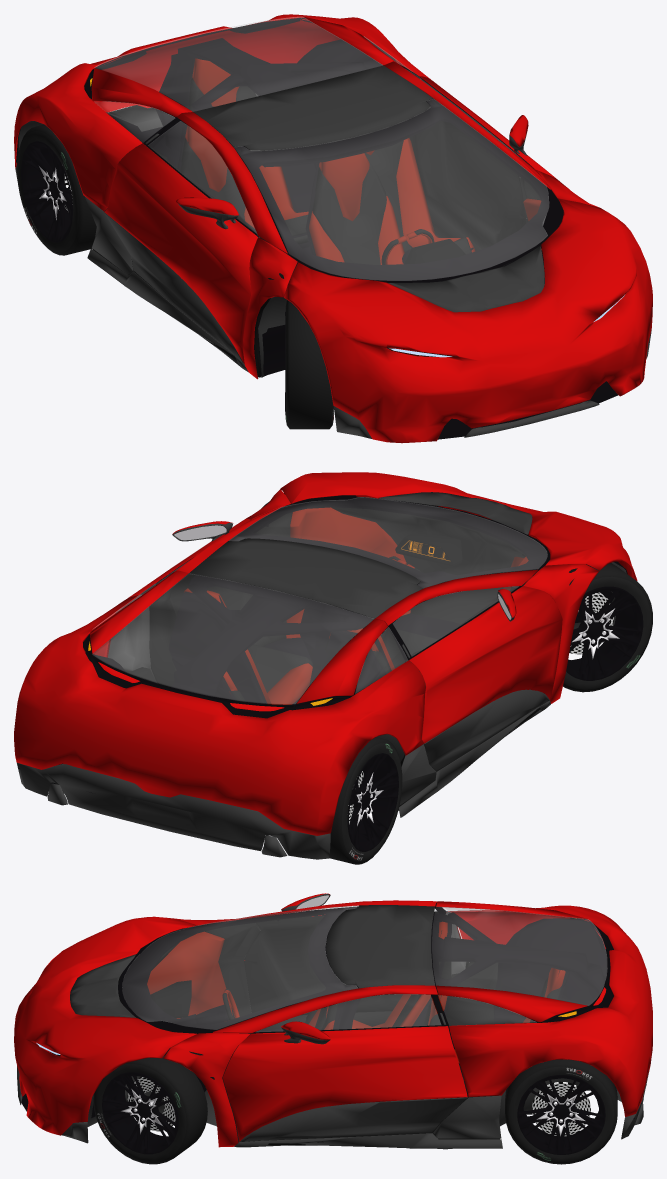
The model's file is concept_lod.glb.
3 renders of one model, top to bottom at view 1: azimuth 30°, elevation 25°; view 2: azimuth 150°, elevation 25°; view 3: azimuth 270°, elevation 25°, orthographic. The views are drawn at different scales.
Visible parts, largest first — view 1: BodyHood, BodyWindshield, BodyRearPanelsColor1, BodyRearwindow, BodyDoorRColor1, BodyWindshieldGasket, BodyRoofPanel, InteriorSeatsColor1, InteriorDoorL01, InteriorSeatsColor2, BodyPillars, InteriorPillar (+15 smaller); view 2: BodyRearPanelsColor1, BodyRearwindow, BodyWindshield, BodyPanelsColor2, BodyDoorRColor1, BodyRoofPanel, InteriorPillar, BodyHood, BodyPillars, InteriorDashMid, BodyWindshieldGasket, InteriorSeatsFrame1 (+17 smaller); view 3: BodyRearPanelsColor1, BodyWindshield, BodyDoorLColor1, BodyHood, BodyRearwindow, BodyRoofPanel, BodyPillars, InteriorDoorR01, BodyWindshieldGasket, BodyDoorLColor2, InteriorFloor, InteriorPillar (+21 smaller).
Part boxes in pixels (bbox=[...]): BodyHood: bbox=[284, 199, 652, 443]; BodyWindshield: bbox=[234, 98, 548, 280]; BodyRearPanelsColor1: bbox=[14, 14, 430, 211]; BodyRearwindow: bbox=[94, 17, 382, 111]; BodyDoorRColor1: bbox=[104, 143, 257, 363]; BodyWindshieldGasket: bbox=[234, 99, 563, 282]; BodyRoofPanel: bbox=[193, 65, 432, 150]; InteriorSeatsColor1: bbox=[185, 58, 475, 264]; InteriorDoorL01: bbox=[409, 78, 527, 248]; InteriorSeatsColor2: bbox=[180, 78, 471, 264]; BodyPillars: bbox=[177, 61, 599, 379]; InteriorPillar: bbox=[155, 38, 434, 169]; BodyRearPanelsColor1: bbox=[14, 570, 425, 835]; BodyRearwindow: bbox=[92, 574, 373, 704]; BodyWindshield: bbox=[229, 497, 547, 588]; BodyPanelsColor2: bbox=[17, 700, 550, 859]; BodyDoorRColor1: bbox=[409, 586, 562, 743]; BodyRoofPanel: bbox=[189, 538, 422, 618]; InteriorPillar: bbox=[171, 575, 417, 702]; BodyHood: bbox=[278, 472, 637, 580]; BodyPillars: bbox=[175, 490, 598, 703]; InteriorDashMid: bbox=[331, 503, 528, 623]; BodyWindshieldGasket: bbox=[230, 496, 550, 588]; InteriorSeatsFrame1: bbox=[169, 592, 383, 707]; BodyRearPanelsColor1: bbox=[436, 901, 652, 1116]; BodyWindshield: bbox=[122, 906, 357, 1029]; BodyDoorLColor1: bbox=[222, 1026, 467, 1141]; BodyHood: bbox=[14, 916, 196, 1135]; BodyRearwindow: bbox=[432, 907, 607, 1005]; BodyRoofPanel: bbox=[326, 905, 434, 988]; BodyPillars: bbox=[163, 900, 437, 1147]; InteriorDoorR01: bbox=[244, 912, 466, 1015]; BodyWindshieldGasket: bbox=[118, 906, 357, 1033]; BodyDoorLColor2: bbox=[239, 1097, 467, 1141]; InteriorFloor: bbox=[21, 918, 646, 1128]; InteriorPillar: bbox=[325, 912, 613, 1029].
Bounding box in the file's own units: 2.54 × 1.15 × 4.35.
19 materials, 5 textured.
